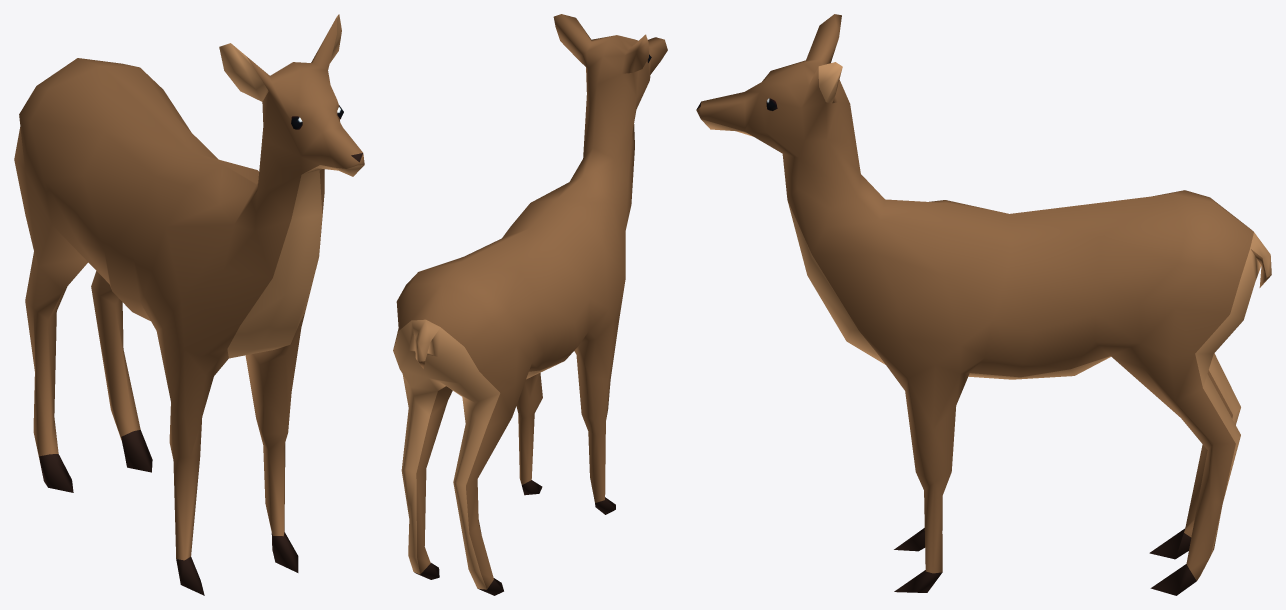
The model's file is DeerFemale.glb.
The picture shows the model from 3 angles, left to right: view 1: azimuth 30°, elevation 25°; view 2: azimuth 150°, elevation 25°; view 3: azimuth 270°, elevation 25°; orthographic projection. The views are drawn at different scales.
Visible parts, largest first — view 1: DeerFemale; view 2: DeerFemale; view 3: DeerFemale.
Part boxes in pixels (x1,y1,x2,y2): DeerFemale: (14, 14, 364, 595); DeerFemale: (393, 14, 667, 595); DeerFemale: (696, 14, 1271, 595).
Size of what is drawn, in the model's own units: 0.4854 by 1.8 by 1.75.
1 material, 1 textured.
